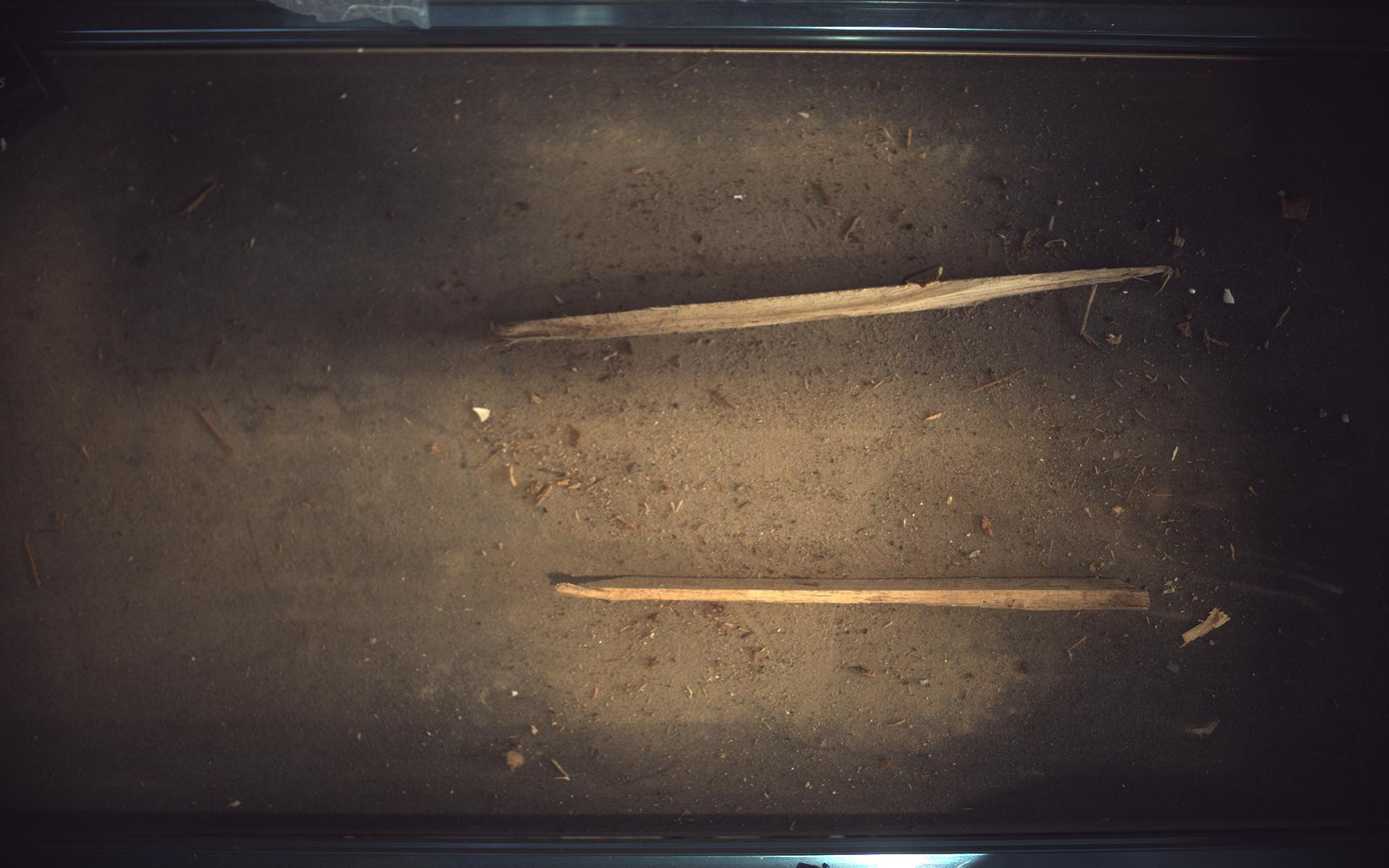wood: (493, 264, 1173, 343), (556, 577, 1152, 612)
